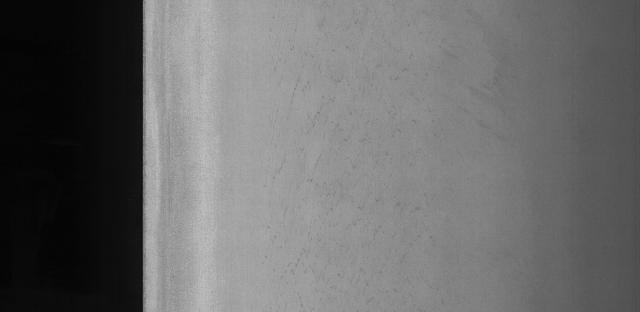silk_spot: (278, 15, 419, 244)
